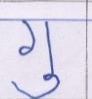u_matra: (11, 73, 62, 99)
